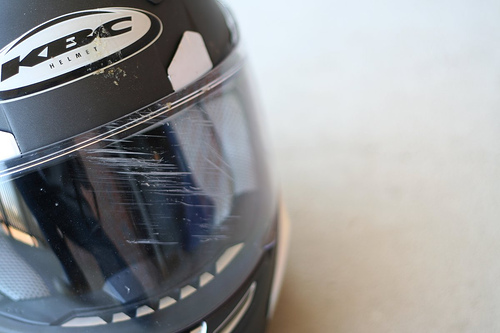helmet: (1, 3, 278, 333)
